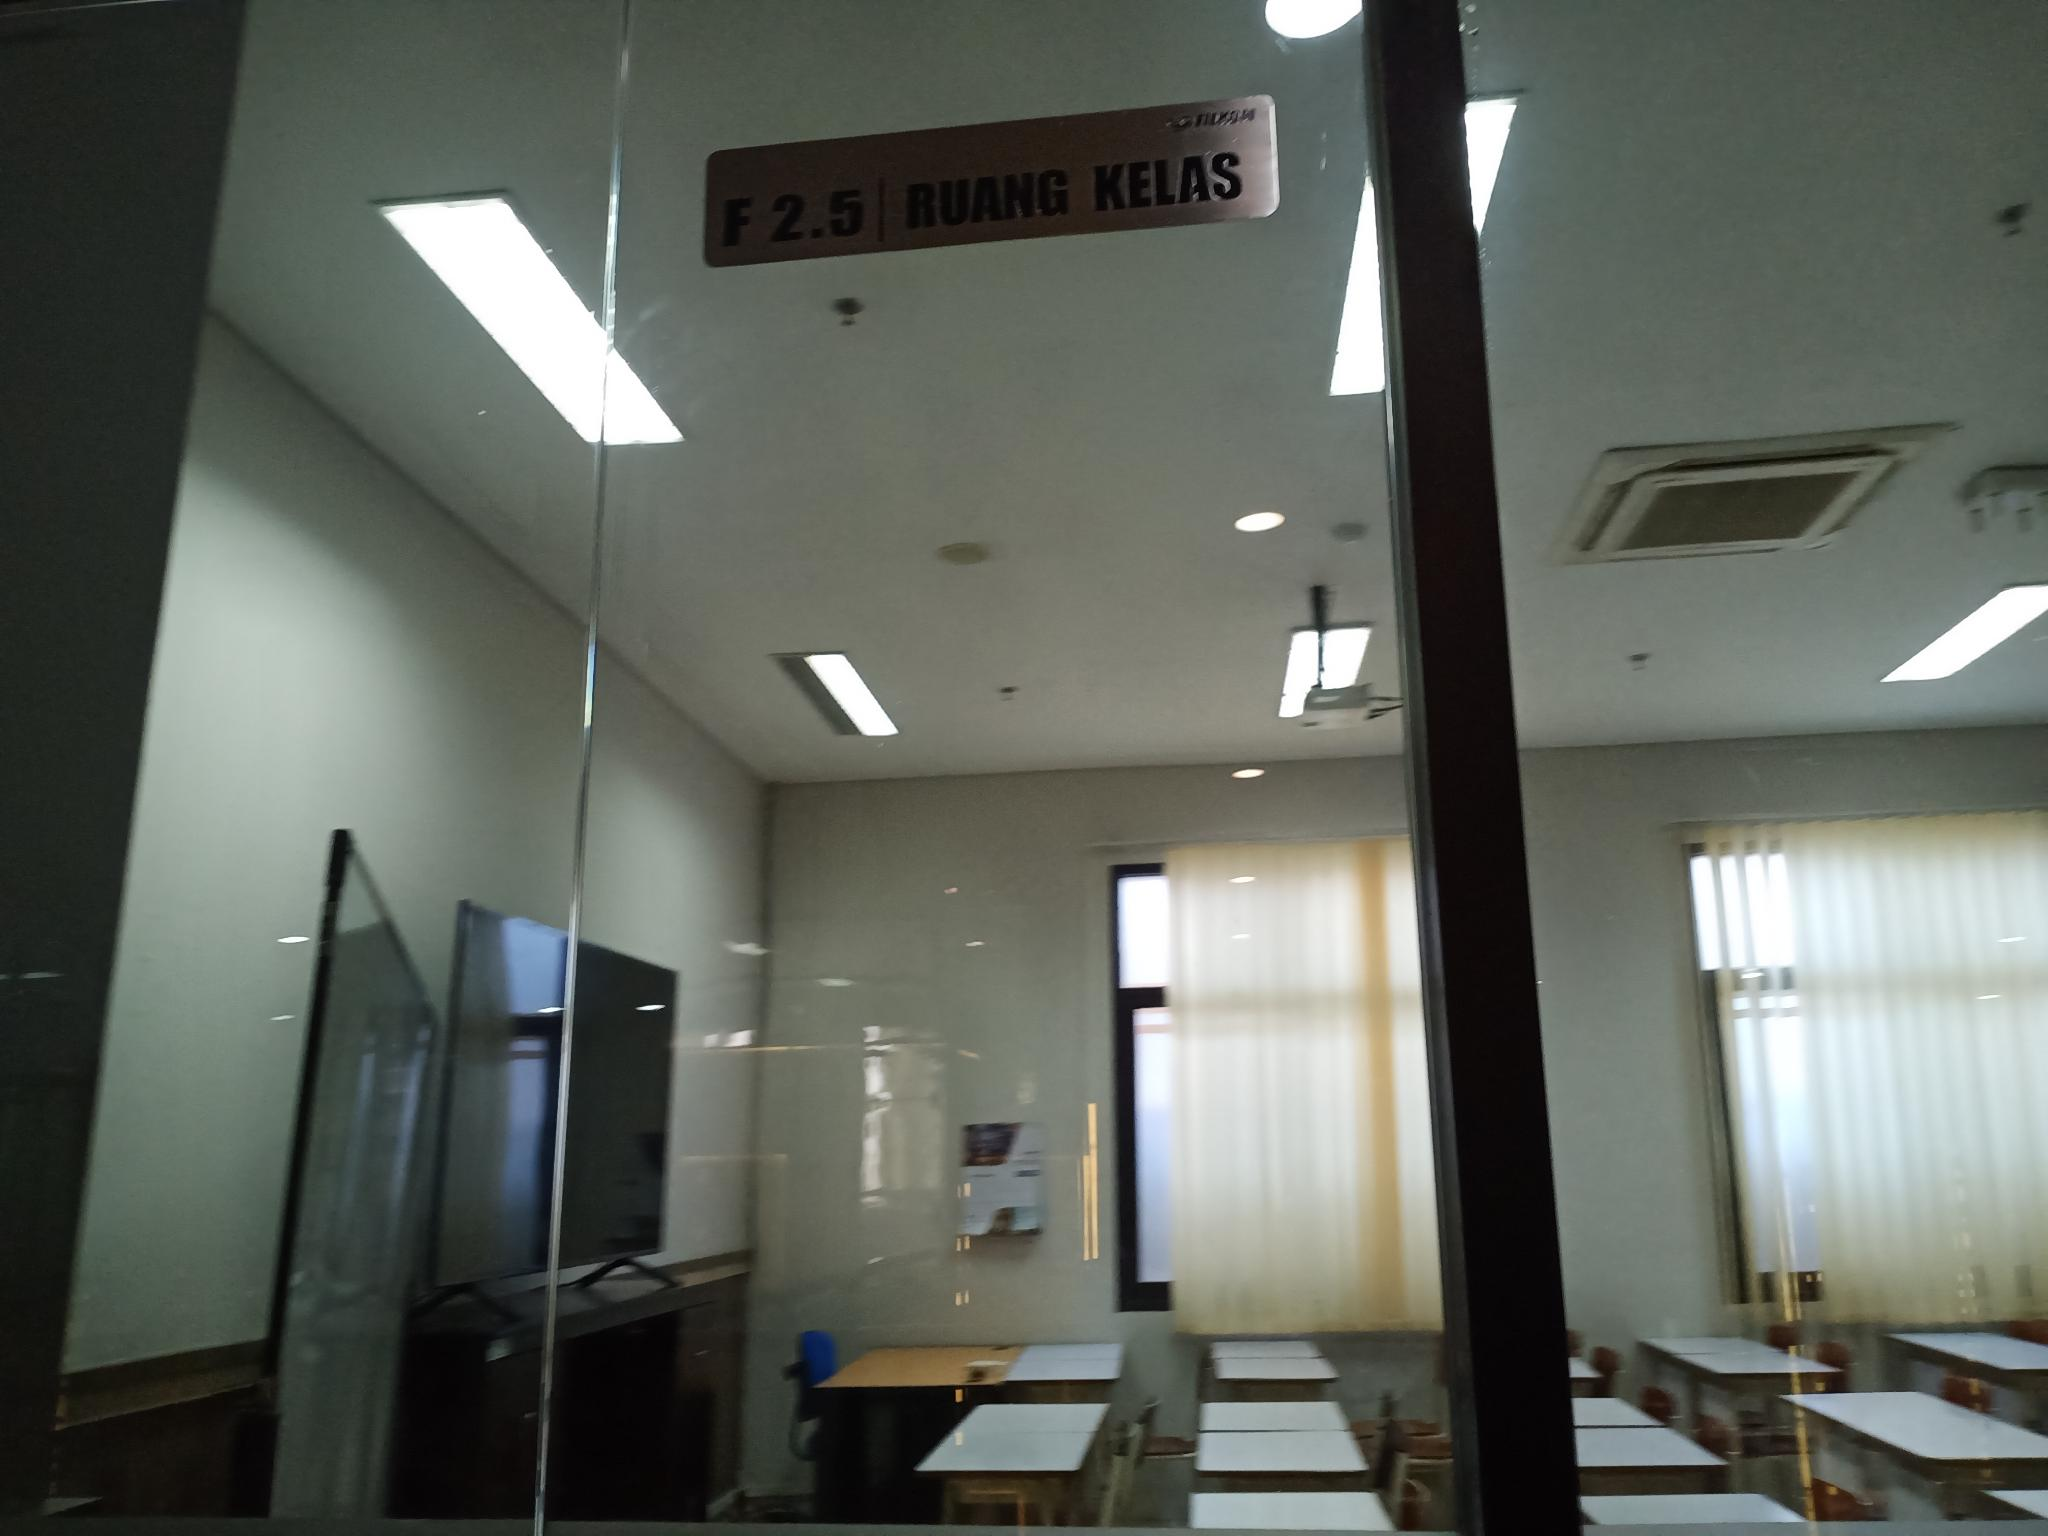plate: (700, 92, 1277, 273)
